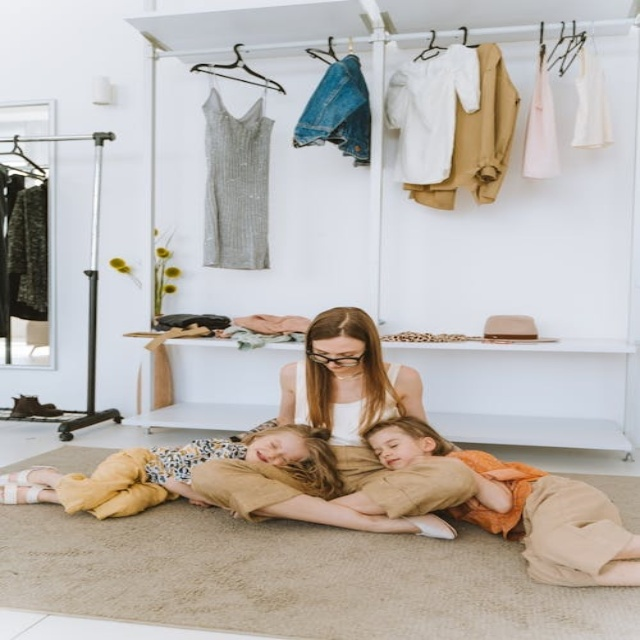Gafas: (302, 341, 374, 366)
Sin_gafas: (371, 434, 406, 459), (269, 439, 298, 467)
Sin_mascara: (378, 454, 408, 470), (312, 363, 352, 375), (247, 445, 269, 466)
